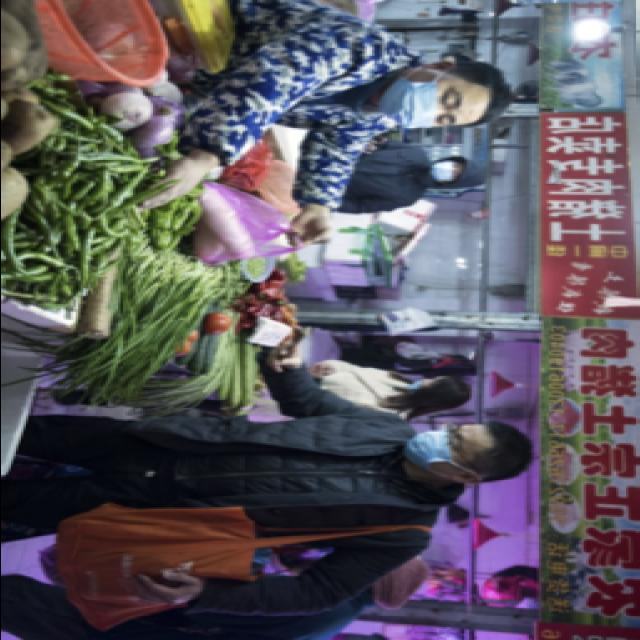mask_weared_incorrect: (408, 378, 444, 390)
with_mask: (384, 72, 474, 131), (406, 424, 476, 470), (433, 162, 468, 184)
